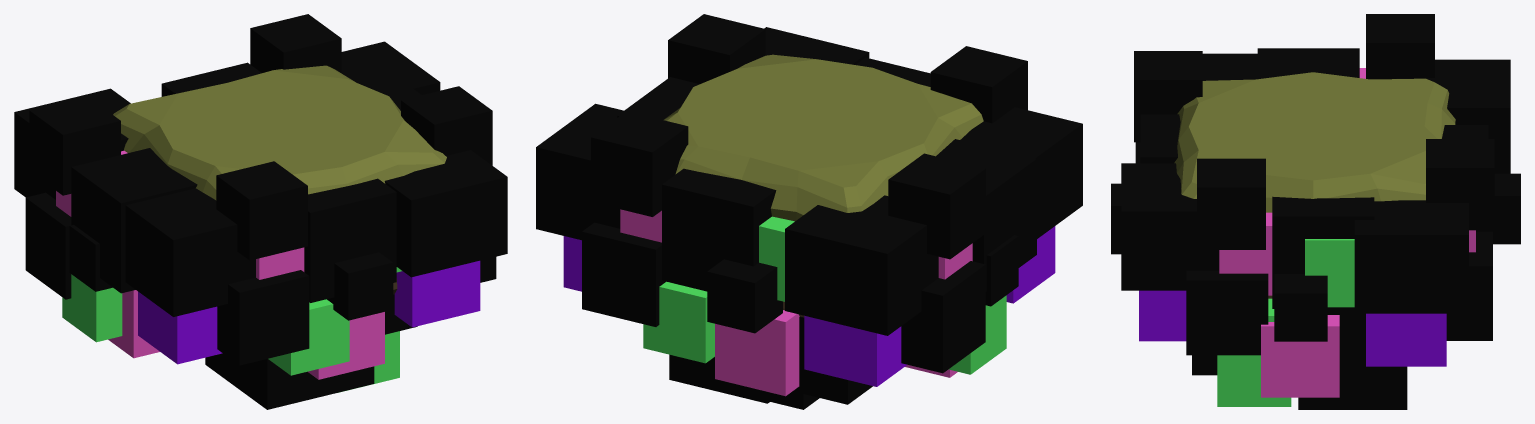
The model's file is F-glitched-grass.fbx.
3 renders of one model, left to right at view 1: azimuth 30°, elevation 25°; view 2: azimuth 150°, elevation 25°; view 3: azimuth 270°, elevation 25°, orthographic. The views are drawn at different scales.
Visible parts, largest first — view 1: Cube.003, Cube.004, Cube, Cube.001, Cube.002; view 2: Cube.001, Cube.002, Cube, Cube.003, Cube.004; view 3: Cube.004, Cube.002, Cube, Cube.001, Cube.003.
Part boxes in pixels (x1,y1,x2,y2): Cube.003: (69,161,396,375); Cube.004: (205,79,507,409); Cube: (113,65,446,294); Cube.001: (14,88,197,342); Cube.002: (161,14,440,96); Cube.001: (707,139,1036,404); Cube.002: (536,103,776,363); Cube: (663,54,983,317); Cube.003: (855,46,1082,377); Cube.004: (617,14,869,409); Cube.004: (1111,158,1407,409); Cube.002: (1261,125,1494,397); Cube: (1174,72,1455,298); Cube.001: (1257,14,1520,244); Cube.003: (1134,51,1257,163).
Size of the model in its own units: 8.4 by 5.36 by 7.64.
